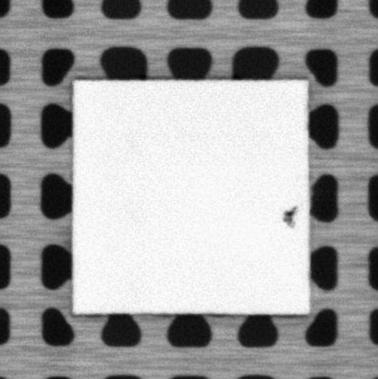DIE_INK: (280, 204, 299, 230)
